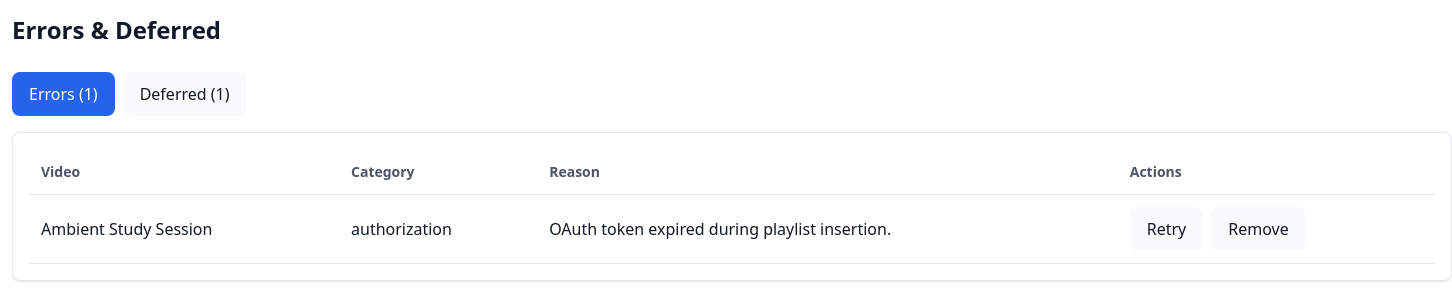
Test: ErrorsView › renders errors and deferred queues with retry/dismiss actions
The width and height of the screenshot is (1452, 299).
Expected: the heading "Errors & Deferred" is shown, [12, 12, 221, 48]
Expected: the text "Ambient Study Session" is shown, [29, 194, 339, 264]
Switch to deferred tab.
Click the tab "Deferred (1)". click: click(185, 94)
box: [123, 72, 247, 116]
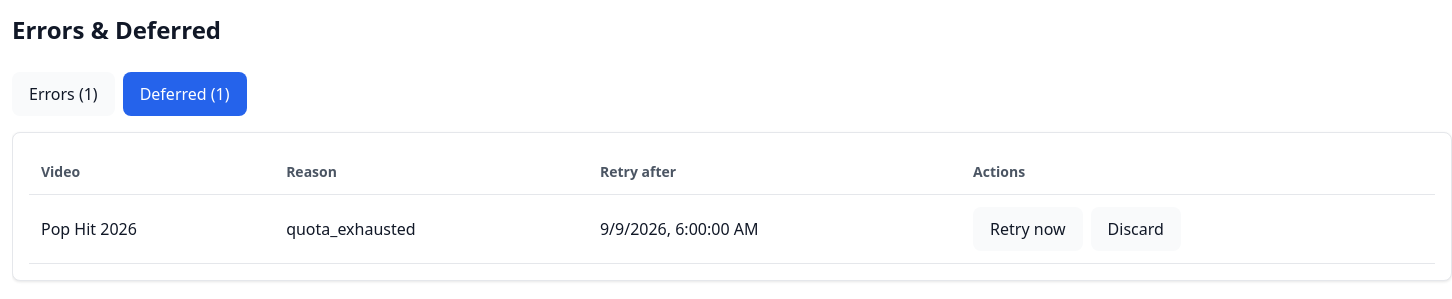
Expected: the text "Pop Hit 2026" is shown, [29, 194, 274, 264]
Expected: the text "quota_exhausted" is shown, [274, 194, 588, 264]
Expected: the button "Retry now" is shown, [973, 207, 1083, 251]
